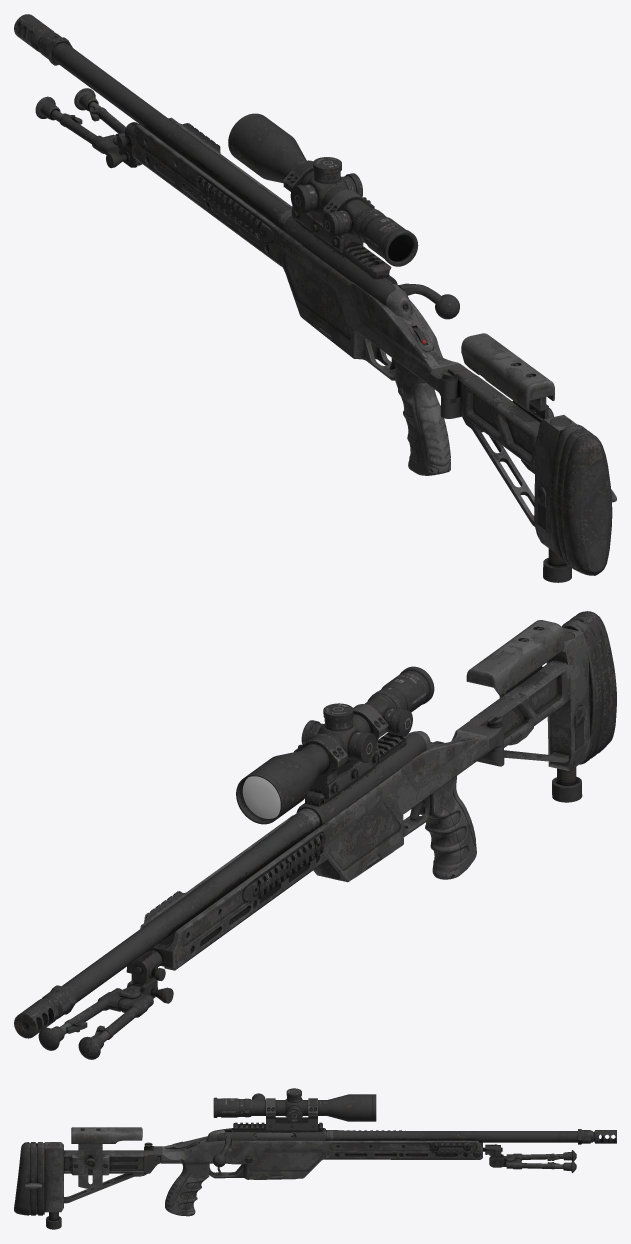
Rendered from scout_r.glb.
3 views of the same model, one above another, from view 1: azimuth 30°, elevation 25°; view 2: azimuth 150°, elevation 25°; view 3: azimuth 270°, elevation 25° (orthographic). The views are drawn at different scales.
Visible parts, largest first — view 1: v_scout_R; view 2: v_scout_R; view 3: v_scout_R.
Boxes of the visible parts, x1,y1,x2,y2 form: v_scout_R: [14, 14, 616, 582]; v_scout_R: [14, 611, 616, 1059]; v_scout_R: [14, 1088, 616, 1229].
Bounding box in the file's own units: 0.1252 × 0.319 × 1.3.
2 materials, 2 textured.
